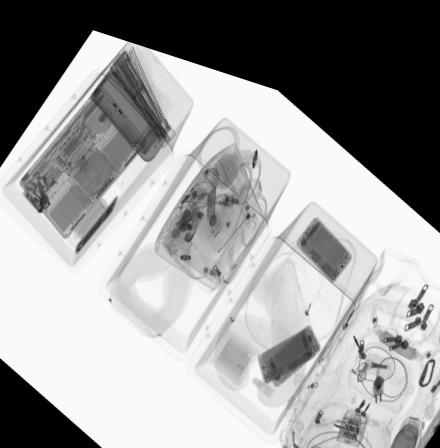Lighter: (21, 186, 44, 212)
